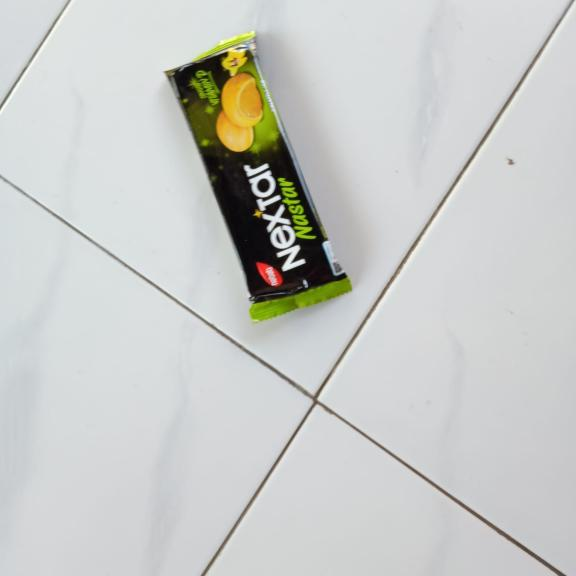Plastik: (163, 31, 354, 322)
